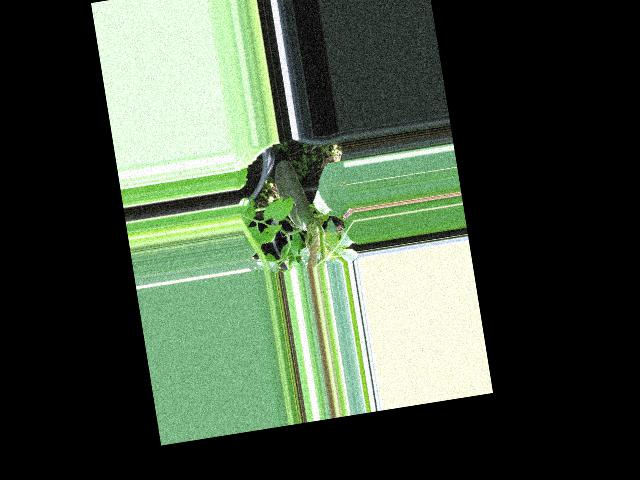cucumber: (272, 157, 315, 234)
